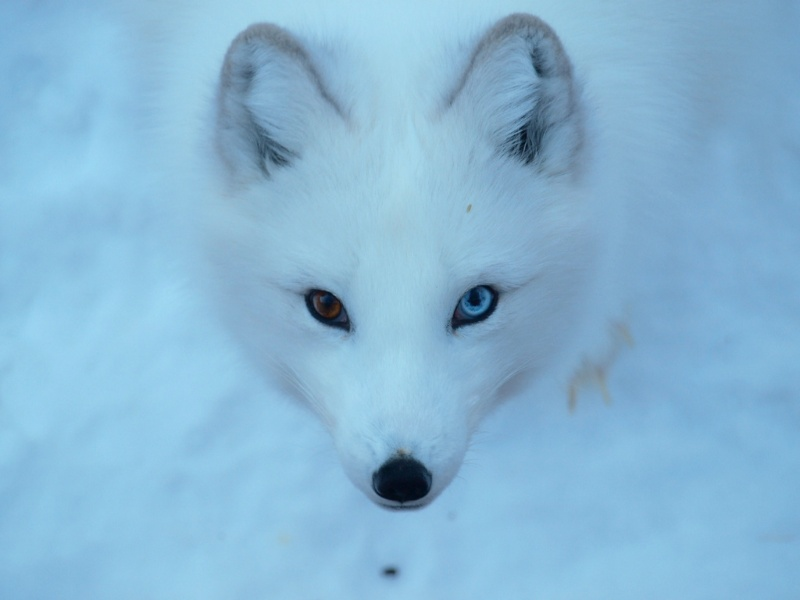fox: (175, 1, 714, 512)
